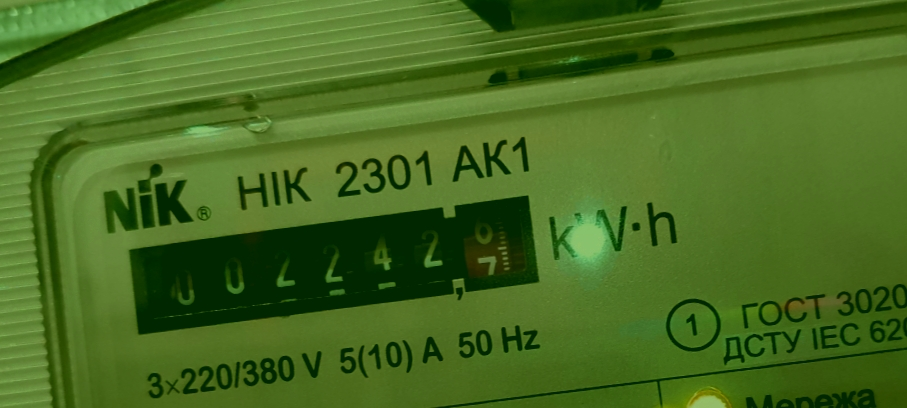0: (219, 252, 248, 297), (270, 245, 298, 290), (171, 263, 198, 309)
2: (417, 225, 446, 271), (319, 240, 347, 286)
4: (367, 229, 395, 275)
6: (470, 211, 497, 247)
7: (475, 253, 500, 278)
screen: (117, 183, 559, 351)
